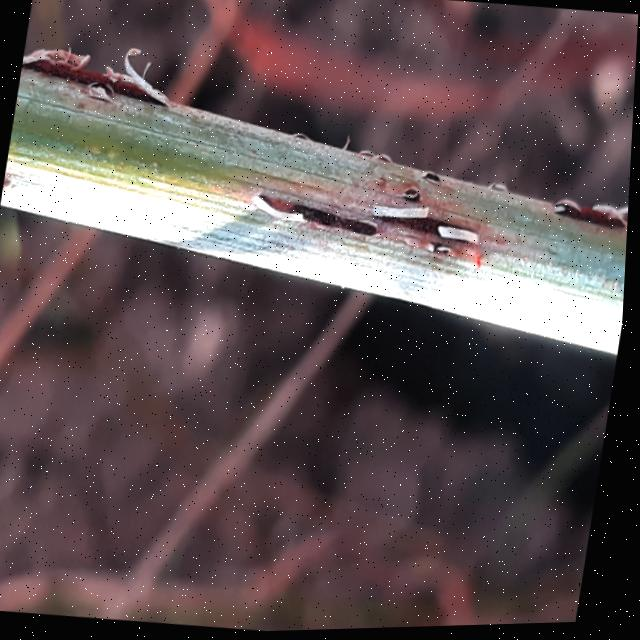black_stem_rust: (0, 5, 639, 386)
